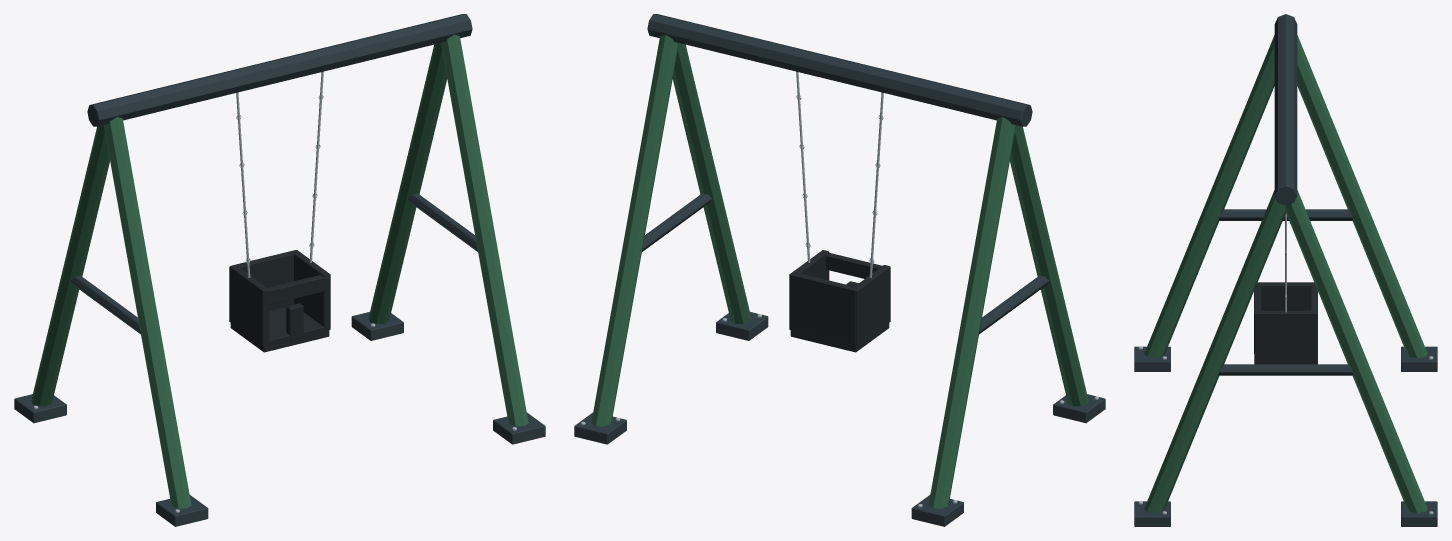
File: b09_toddler_bucket_swing.glb
3 views of the same model, side by side, from view 1: azimuth 30°, elevation 25°; view 2: azimuth 150°, elevation 25°; view 3: azimuth 270°, elevation 25° (orthographic). The views are drawn at different scales.
Visible parts, largest first — view 1: b09_toddler_bucket_swing; view 2: b09_toddler_bucket_swing; view 3: b09_toddler_bucket_swing.
Boxes of the visible parts, x1,y1,x2,y2 form: b09_toddler_bucket_swing: [14, 14, 545, 526]; b09_toddler_bucket_swing: [574, 14, 1105, 526]; b09_toddler_bucket_swing: [1134, 14, 1437, 526].
Bounding box in the file's own units: 2.44 × 2.27 × 1.82.
